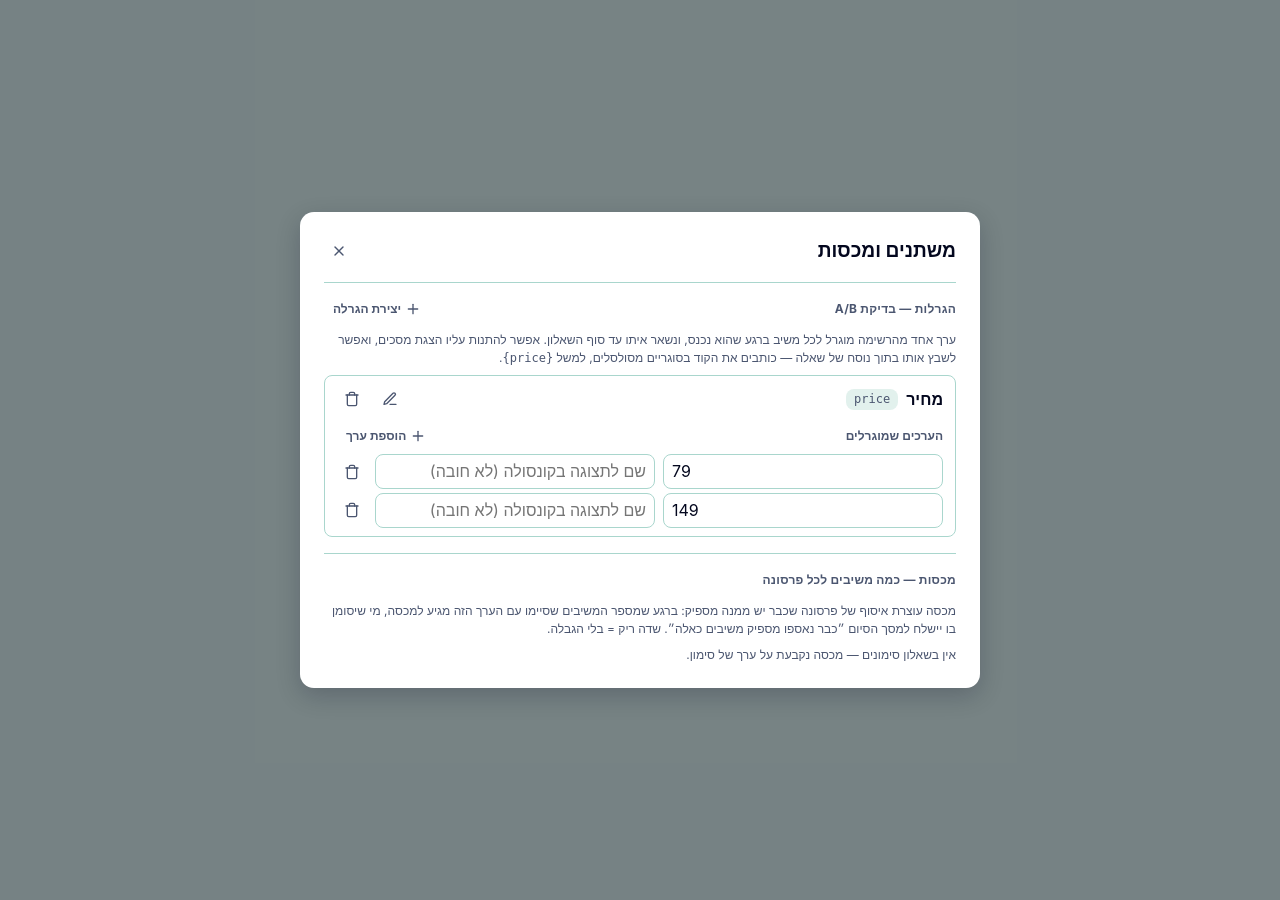
Scenario: the draws section › deletes the draw when the warning is accepted
The width and height of the screenshot is (1280, 900).
Click the button named "מחיקת ההגרלה".
click(352, 399)  # box [337,384,367,414]
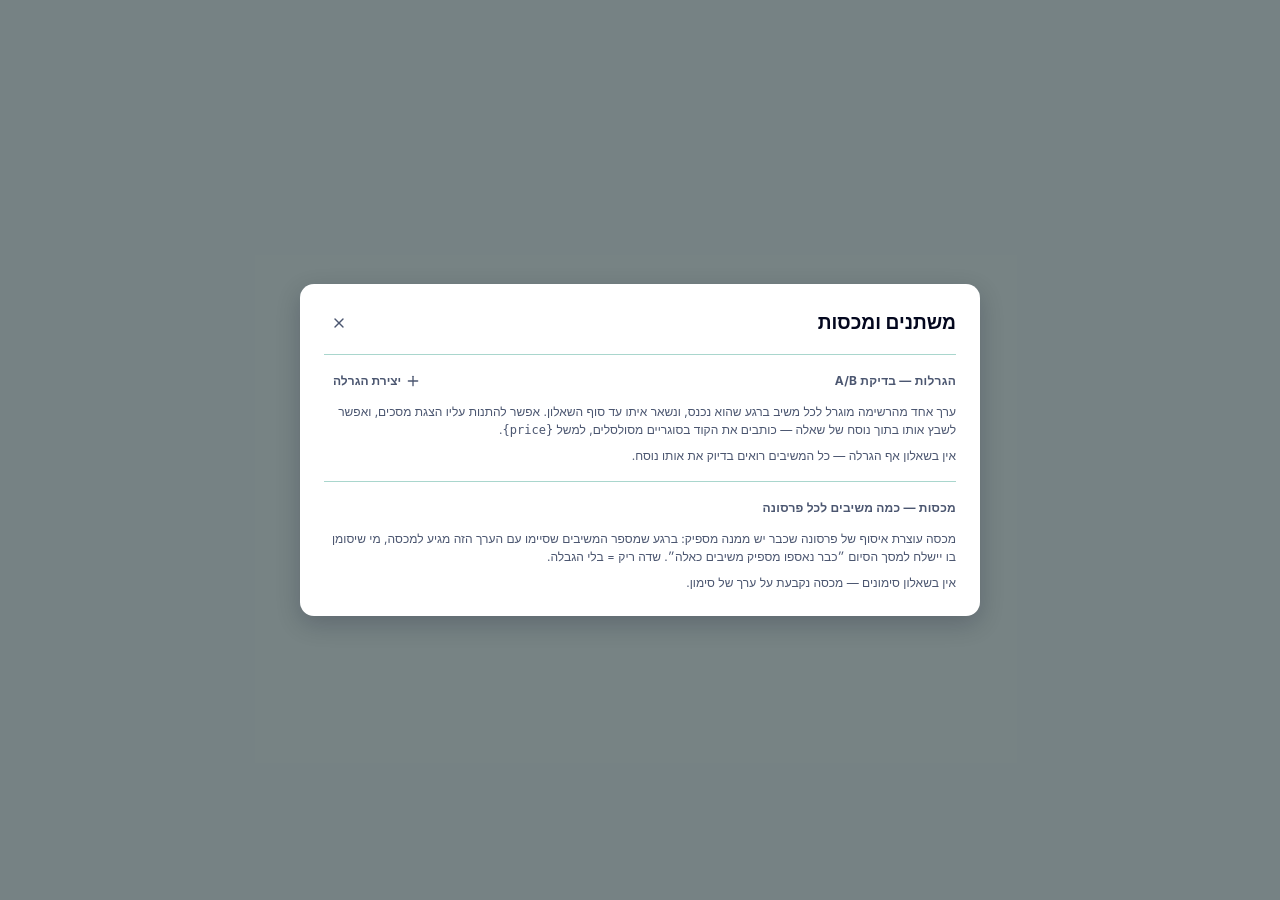
Expected: the text "אין בשאלון אף הגרלה — כל המשיבים רואים בדיוק את אותו נוסח." is shown, [632,448,956,463]
